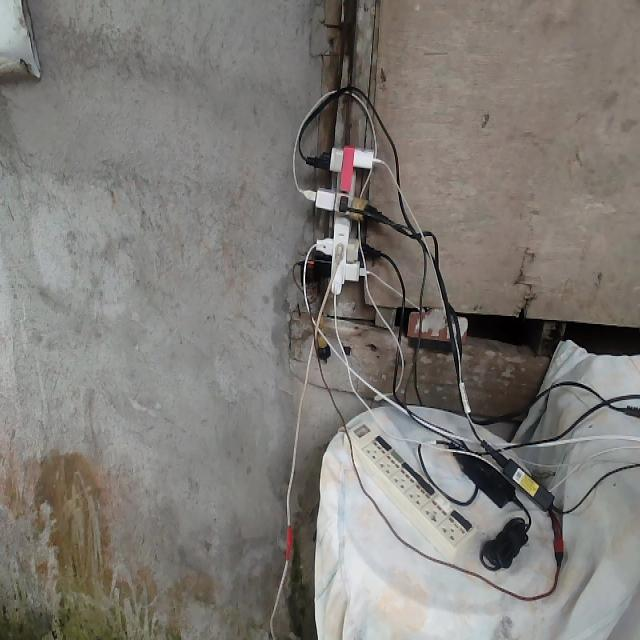-: (306, 141, 381, 296)
